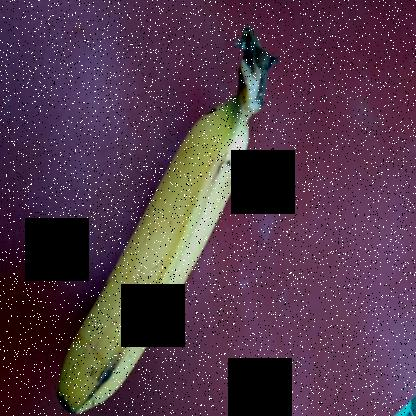ripe: (51, 88, 246, 415)
